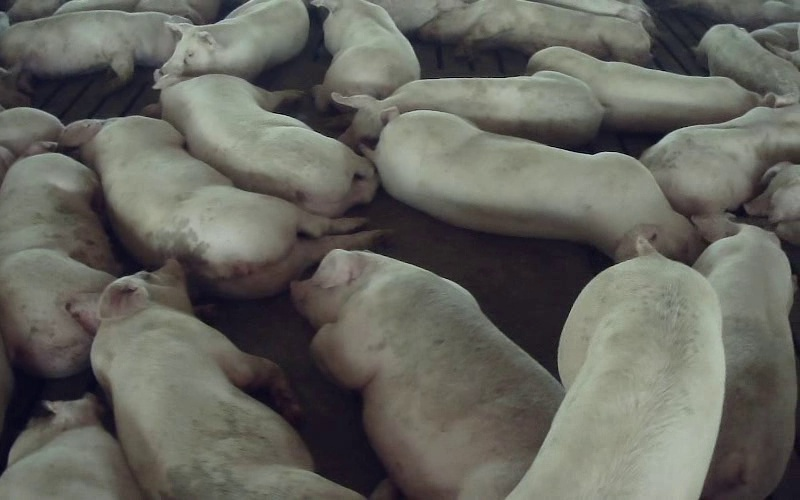pig: (64, 260, 361, 499), (291, 250, 562, 499), (62, 116, 380, 298), (511, 237, 724, 499), (365, 111, 703, 262), (142, 70, 378, 216), (693, 213, 796, 499), (528, 47, 782, 132), (332, 71, 603, 146), (641, 105, 799, 216), (416, 0, 650, 64), (0, 10, 189, 82), (313, 0, 419, 110), (695, 24, 799, 100)
